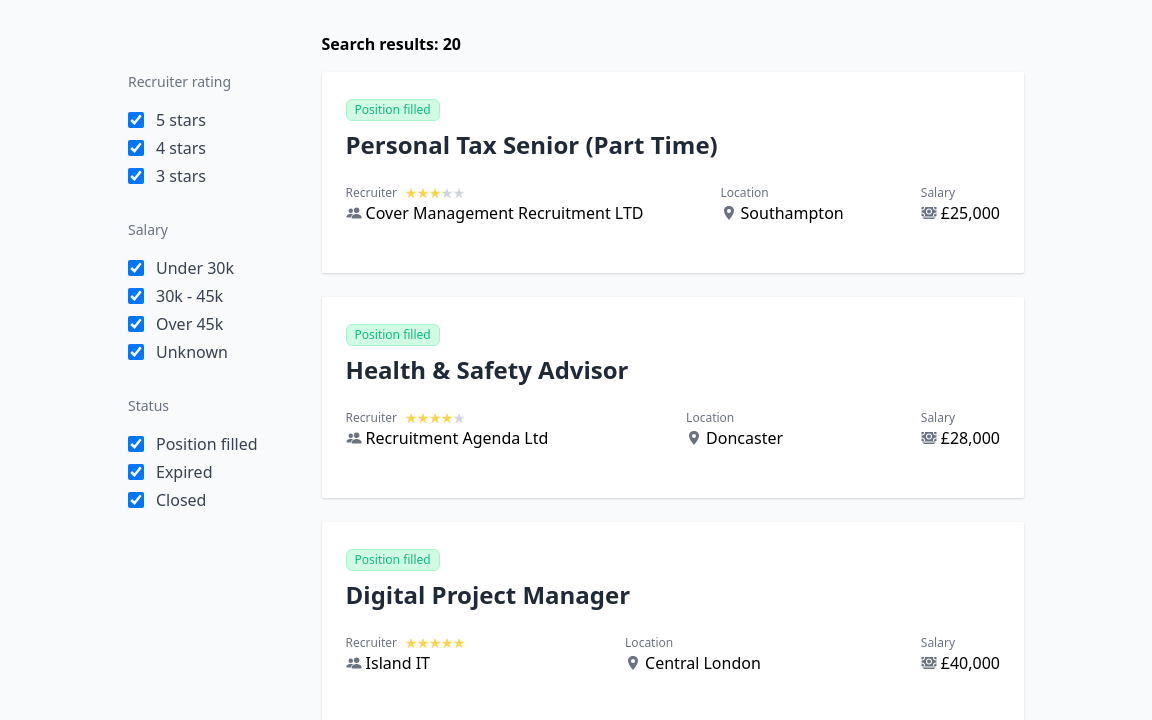
Scenario: Filters › updates search results when a filter is disabled
This screenshot has width=1152, height=720.
Expected: the text with test id "search-result-count" reads "20", [443,33,461,55]
Click the checkbox named "five_star" at (136, 120), box [128,112,144,128]
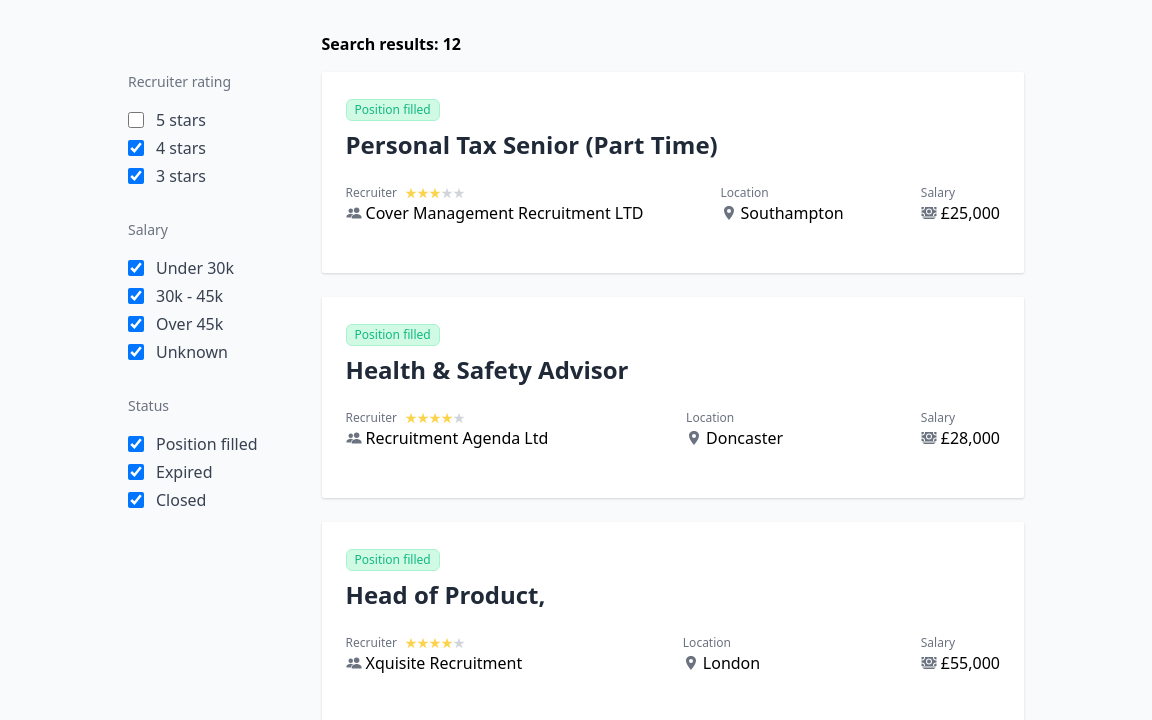
Now the text with test id "search-result-count" reads "12", box [443,33,461,55]
Now the number of list items with test id "job-list-item" is 12
